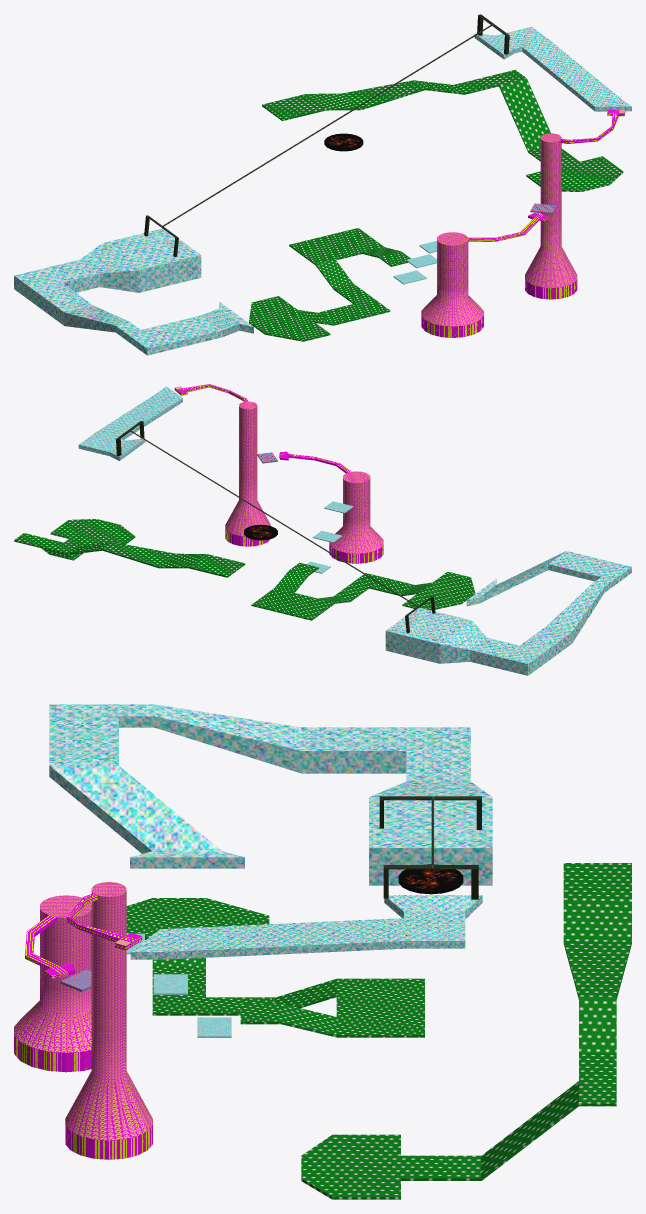
File: Level2.fbx
3 views of the same model, one above another, from view 1: azimuth 30°, elevation 25°; view 2: azimuth 150°, elevation 25°; view 3: azimuth 270°, elevation 25° (orthographic). The views are drawn at different scales.
Visible parts, largest first — view 1: Box009, Box008, Box001, Cylinder002, Cylinder001, Box006, Box007, Cylinder003; view 2: Box009, Box001, Box008, Cylinder002, Cylinder001, Box006, Box007, Cylinder003; view 3: Box009, Box008, Box001, Cylinder002, Box006, Cylinder001, Box007, Cylinder003, Box002, Box003.
Part boxes in pixels (x1,y1,x2,y2): Box009: (14, 228, 253, 355); Box008: (262, 69, 623, 191); Box001: (249, 228, 410, 341); Cylinder002: (525, 109, 625, 299); Cylinder001: (421, 213, 548, 337); Box006: (474, 26, 631, 111); Box007: (144, 14, 509, 256); Cylinder003: (324, 133, 363, 151); Box009: (385, 551, 631, 675); Box001: (251, 562, 475, 620); Box008: (14, 519, 245, 577); Cylinder002: (174, 384, 270, 546); Cylinder001: (279, 451, 383, 563); Box006: (78, 386, 182, 460); Box007: (116, 421, 435, 632); Cylinder003: (244, 524, 277, 540); Box009: (49, 704, 492, 885); Box008: (301, 863, 631, 1199); Box001: (126, 898, 424, 1037); Cylinder002: (65, 882, 152, 1159); Box006: (130, 895, 482, 959); Cylinder001: (14, 895, 91, 1072); Box007: (379, 796, 481, 899); Cylinder003: (398, 864, 463, 894); Box002: (197, 1017, 231, 1037); Box003: (153, 974, 187, 994).
Bounding box in the file's own units: 330 × 102 × 186.
